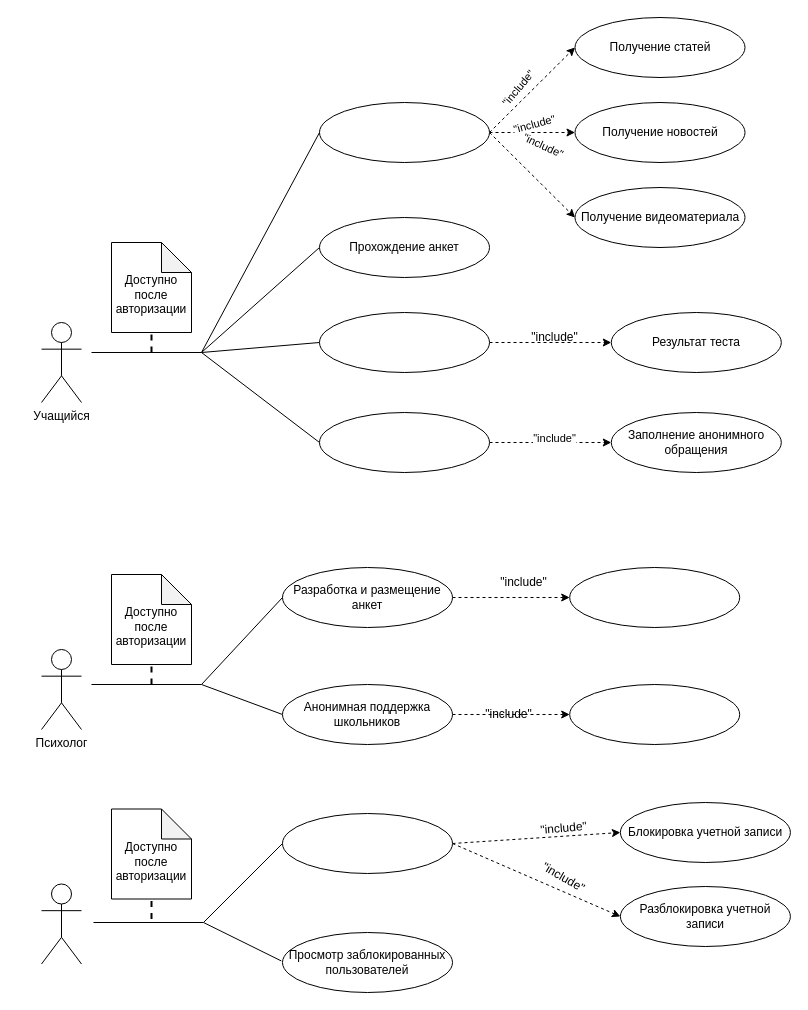
This 808x1010 diagram has some shape labels left out. Each missing label, with the box of its shape:
Администрация: (40, 883, 82, 964)
Заполнение анкеты: (569, 566, 740, 628)
Получение анонимной помощи от психолога: (318, 412, 490, 472)
Получение контента: (318, 102, 490, 162)
Предоставление ответа на анонимное сообщение: (569, 684, 740, 744)
Прохождение психологических тестов: (318, 312, 490, 372)
Управление пользователями: (282, 812, 452, 874)
